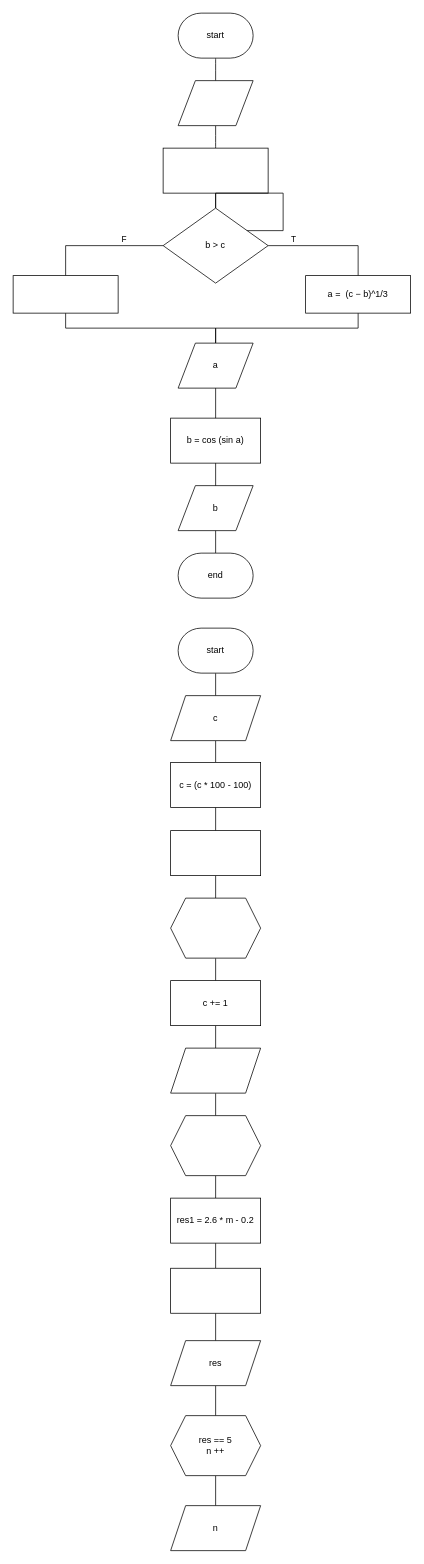
This 424x1564 diagram has some shape labels left out. Each missing label, with the centre of its shape:
"a = (b -c)^1/3" belongs at point (65, 294).
"b = sin x c = cos y a = 0 b = 0" belongs at point (215, 170).
"d = 13 res =5 n = 0" belongs at point (215, 853).
"i =1; i <=100; i ++" belongs at point (215, 927).
"m <= 12; m ++" belongs at point (215, 1145).
"m = 1" belongs at point (215, 1070).
"res = (res1 + d + |c/4| + |y/4| - 2c) mod 7" belongs at point (215, 1290).
"x є R y є R" belongs at point (215, 103).
